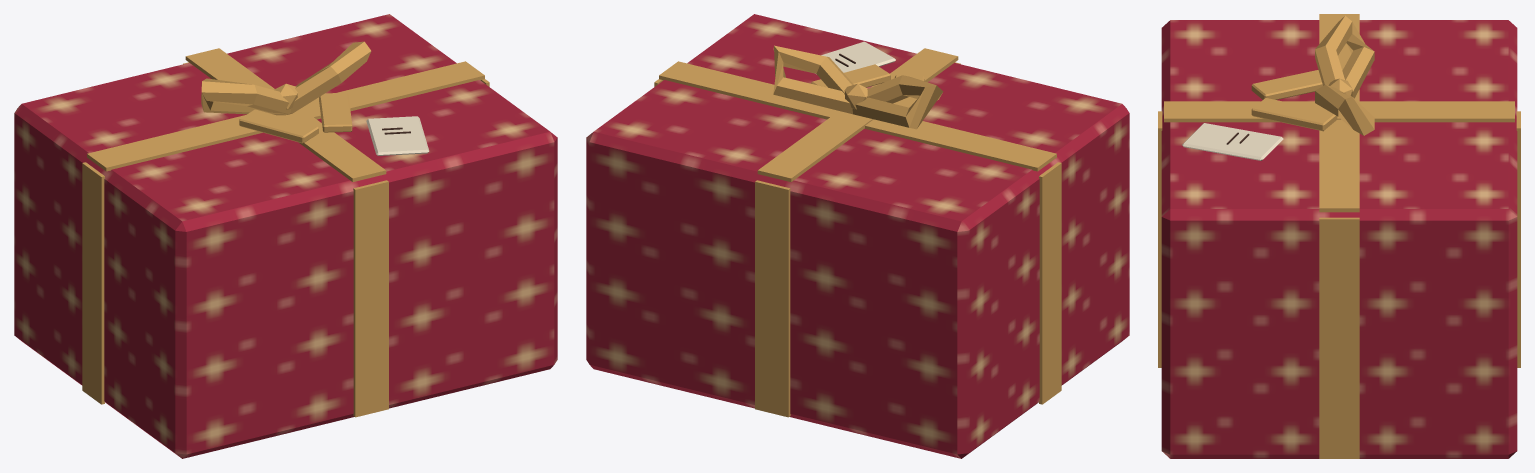
The model's file is parcel_star.glb.
The picture shows the model from 3 angles, left to right: view 1: azimuth 30°, elevation 25°; view 2: azimuth 150°, elevation 25°; view 3: azimuth 270°, elevation 25°; orthographic projection. The views are drawn at different scales.
Parts seen in each view (by area): view 1: parcel_star; view 2: parcel_star; view 3: parcel_star.
Boxes of the visible parts, x1,y1,x2,y2 form: parcel_star: (14,14,557,458); parcel_star: (586,14,1129,458); parcel_star: (1158,14,1520,458).
Size of the model in its own units: 0.325 by 0.2334 by 0.25.
4 materials, 1 textured.
